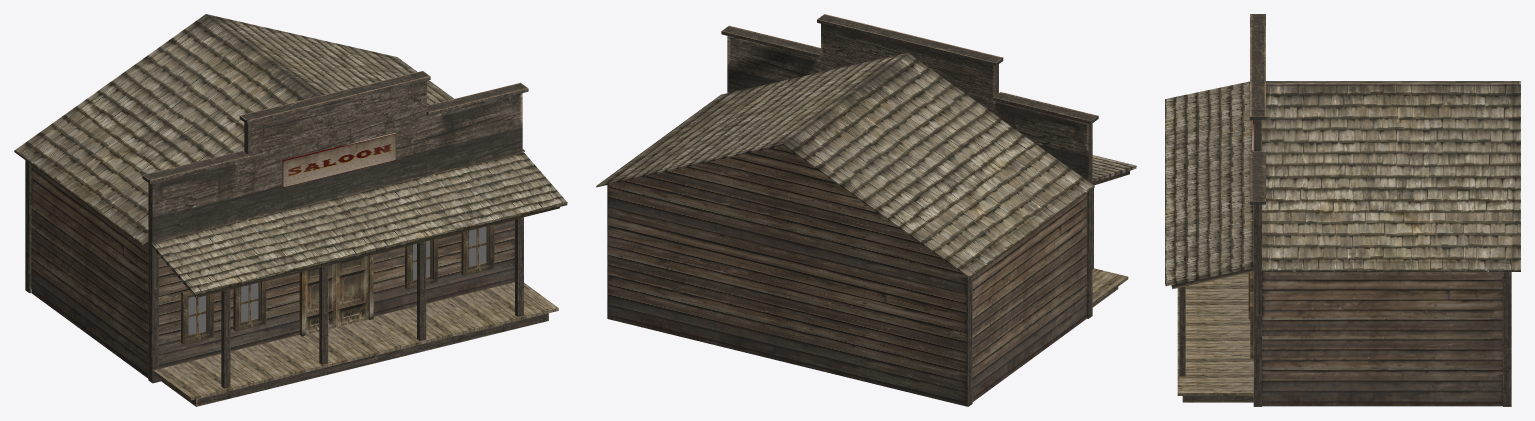
File: Building3_LOD0.FBX
The picture shows the model from 3 angles, left to right: view 1: azimuth 30°, elevation 25°; view 2: azimuth 150°, elevation 25°; view 3: azimuth 270°, elevation 25°; orthographic projection. The views are drawn at different scales.
Visible parts, largest first — view 1: roof, Quader001, sign, glass; view 2: roof, Quader001; view 3: roof, Quader001.
Part boxes in pixels (x1=…): roof: x1=14, y1=14, x2=567, y2=378; Quader001: x1=25, y1=71, x2=559, y2=406; sign: x1=282, y1=133, x2=395, y2=187; glass: x1=188, y1=226, x2=486, y2=334; roof: x1=596, y1=52, x2=1136, y2=406; Quader001: x1=607, y1=14, x2=1129, y2=406; roof: x1=1165, y1=81, x2=1520, y2=406; Quader001: x1=1171, y1=14, x2=1511, y2=406.
Bounding box in the file's own units: 447 × 269 × 355.
